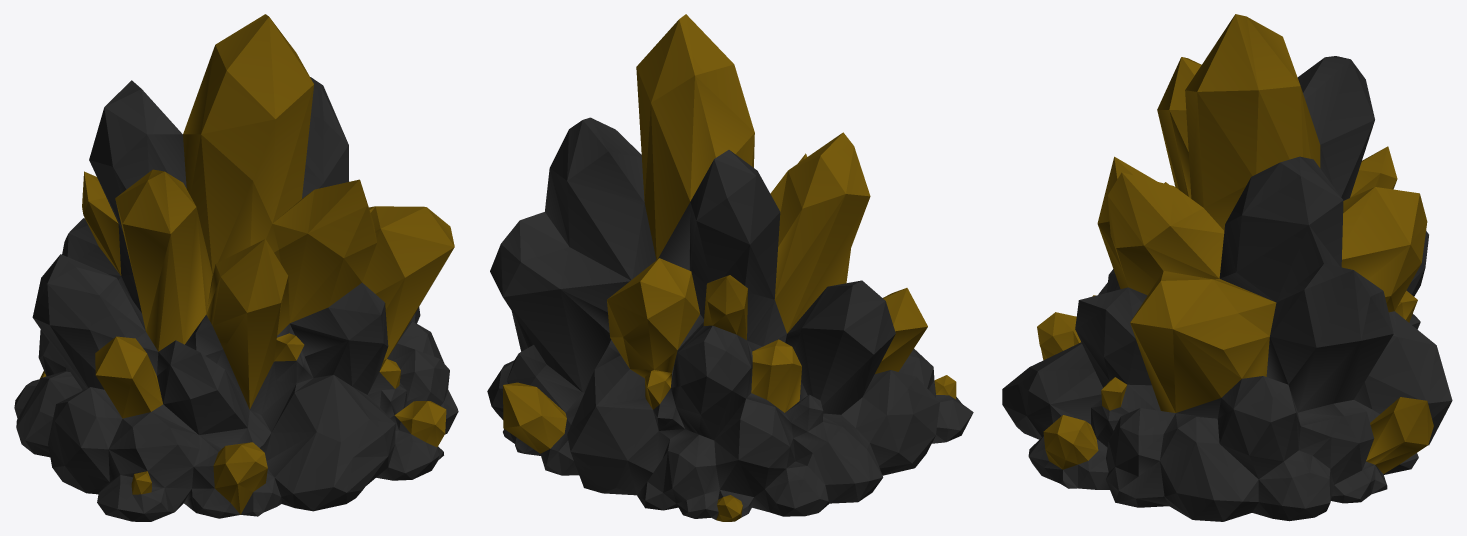
Rendered from Mine.fbx.
3 renders of one model, left to right at view 1: azimuth 30°, elevation 25°; view 2: azimuth 150°, elevation 25°; view 3: azimuth 270°, elevation 25°, orthographic. The views are drawn at different scales.
Parts seen in each view (by area): view 1: Mesh; view 2: Mesh; view 3: Mesh.
Boxes of the visible parts, x1,y1,x2,y2 form: Mesh: [14, 14, 458, 521]; Mesh: [487, 14, 973, 521]; Mesh: [1002, 14, 1452, 521].
Bounding box in the file's own units: 99.8 × 94.34 × 98.63.
